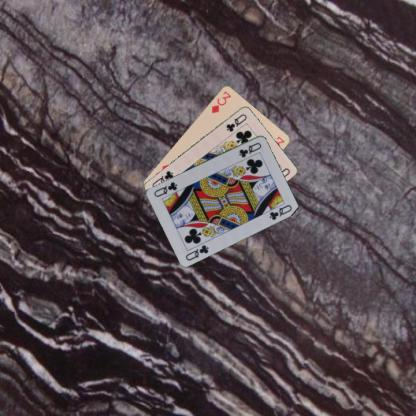3d: (209, 88, 232, 114)
Qc: (223, 111, 248, 133), (236, 139, 263, 159), (183, 242, 210, 262)
